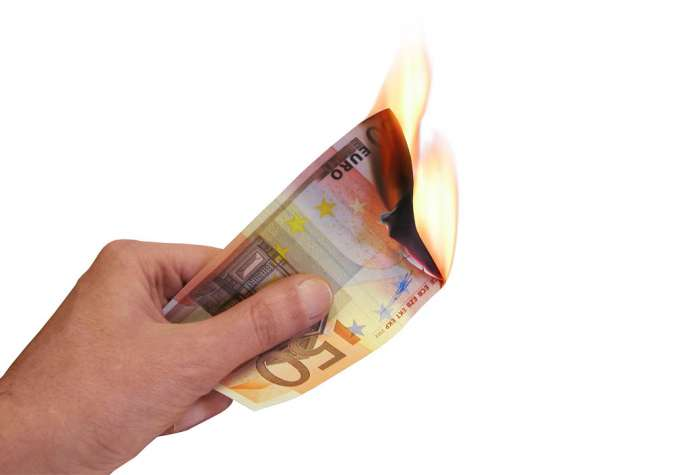billete: (157, 107, 449, 414)
